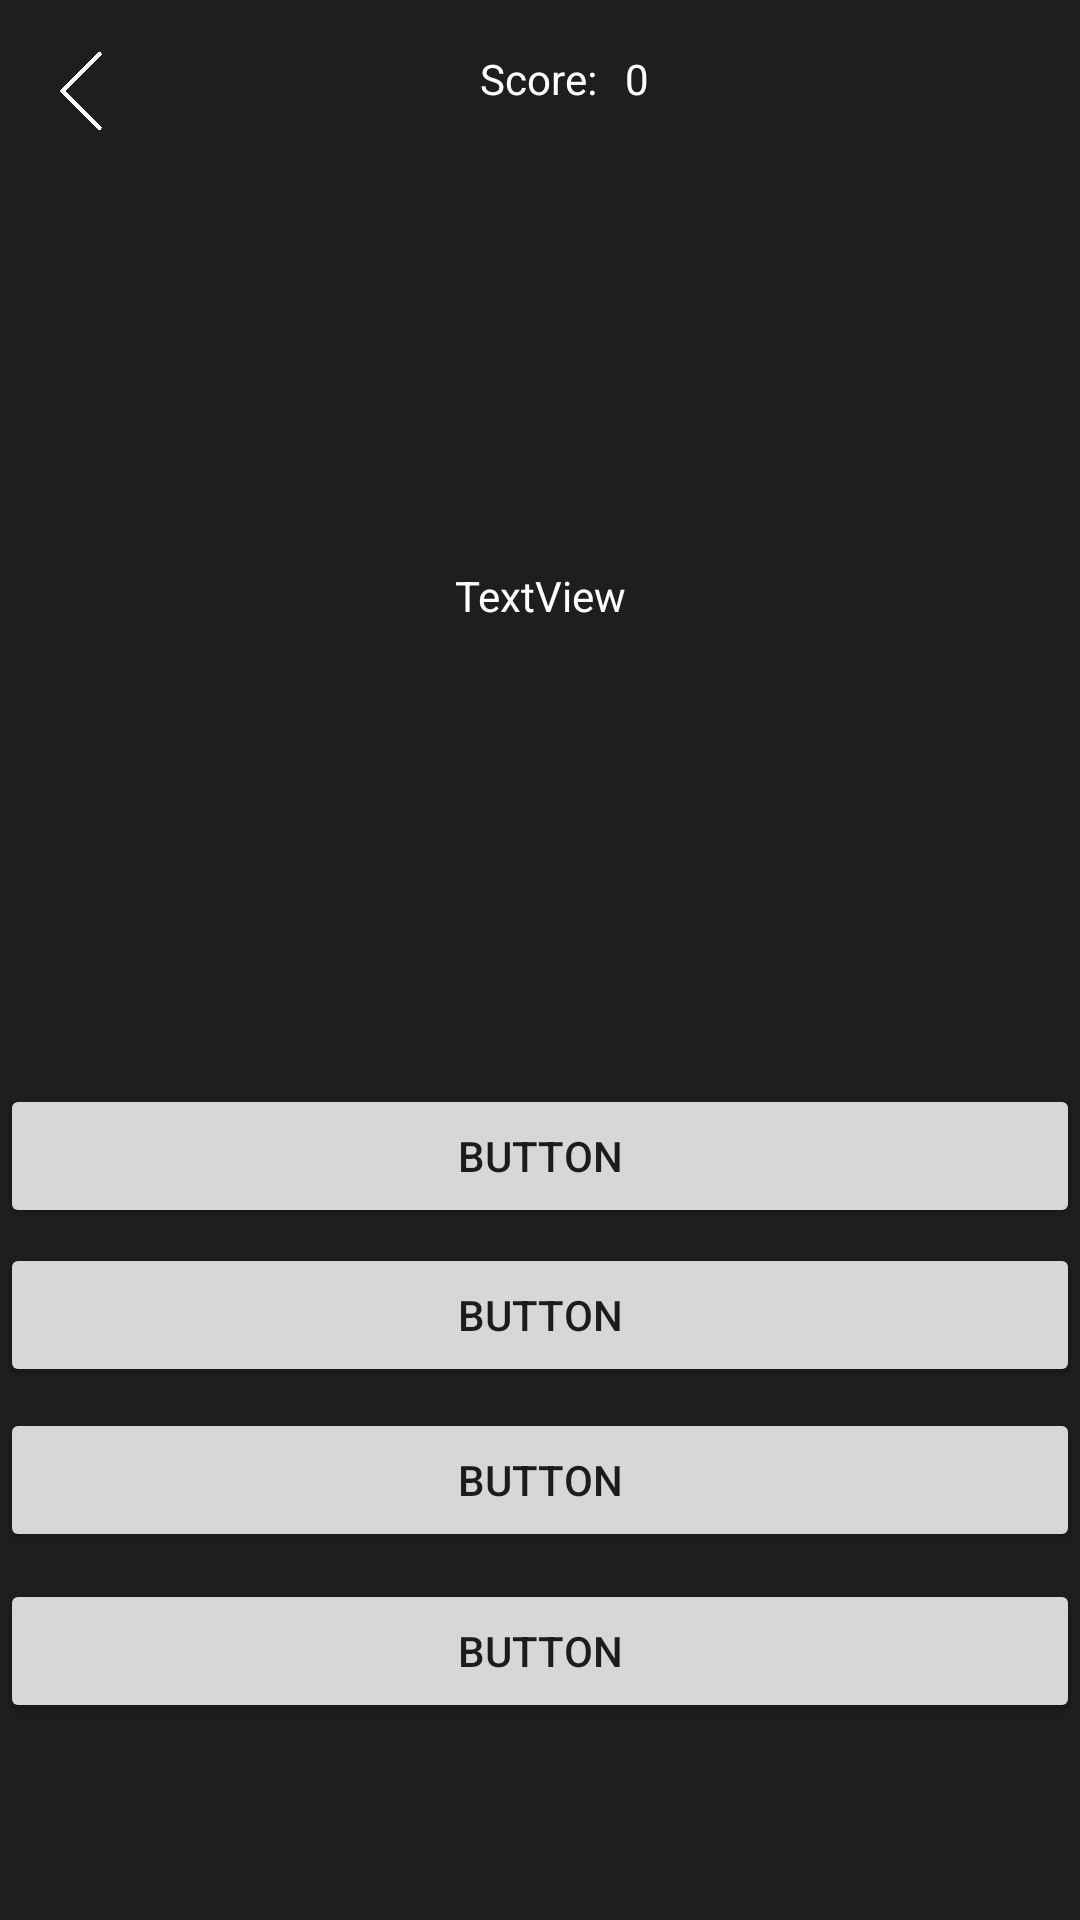

Named icons in this screenshot (1080x1920) and their bounding boxes, (x1, y1, x2, y2):
back: (60, 52, 102, 130)
